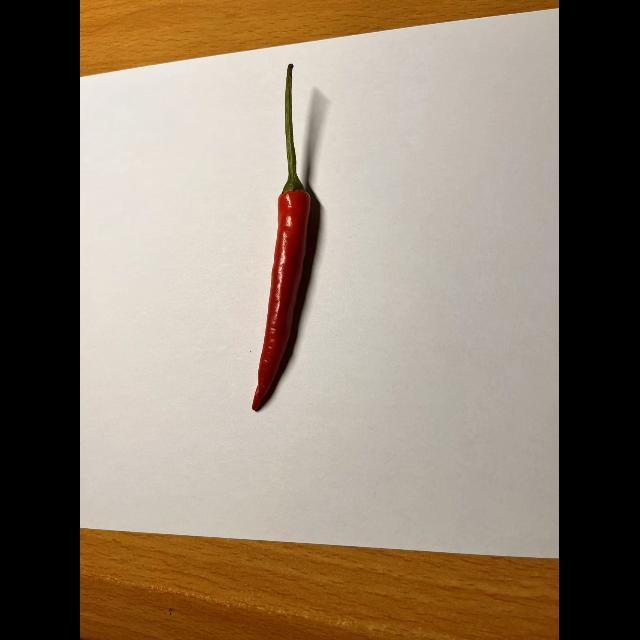chili_pepper: (246, 61, 334, 416)
